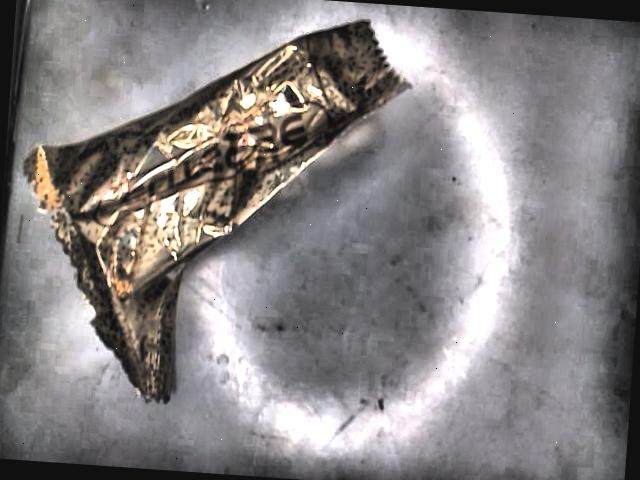Plastic: (20, 20, 406, 404)
